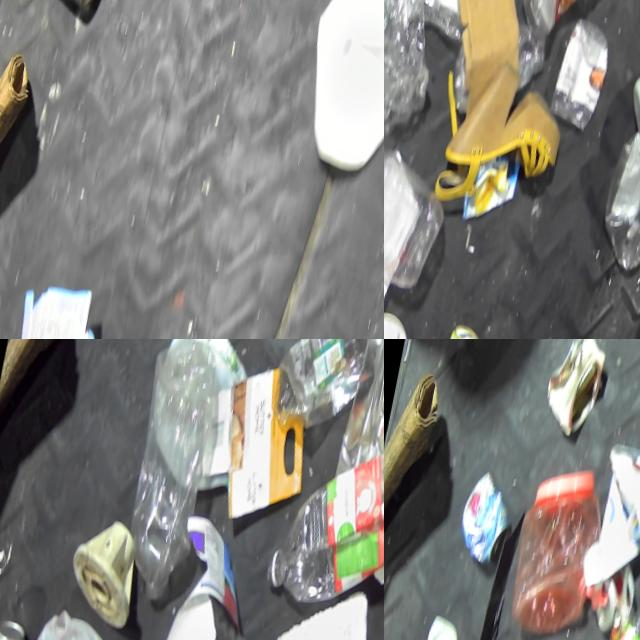can: (538, 339, 615, 449), (453, 466, 525, 575), (337, 339, 384, 493), (590, 560, 640, 639), (442, 325, 490, 339)
milk_jug: (288, 0, 384, 192), (18, 599, 145, 640)
non_white_jug: (129, 587, 304, 640)
plastic_bottle: (260, 431, 384, 633), (384, 120, 461, 307), (446, 20, 551, 137), (267, 339, 374, 447), (590, 591, 640, 640)
